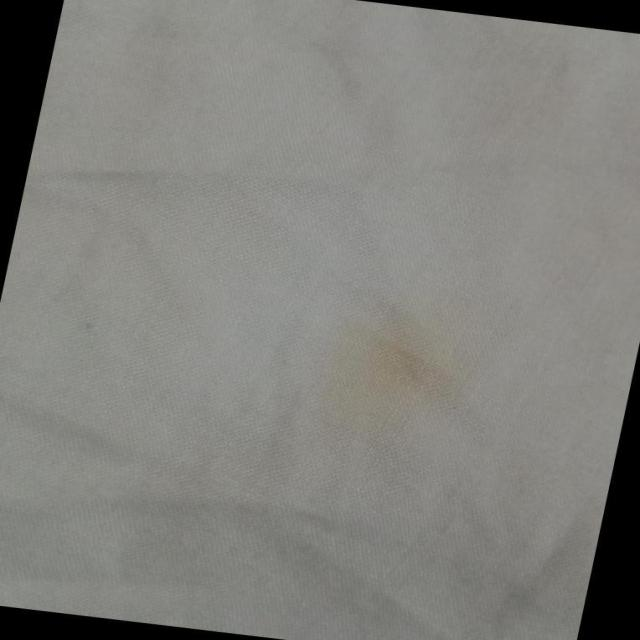stain: (292, 291, 480, 448)
